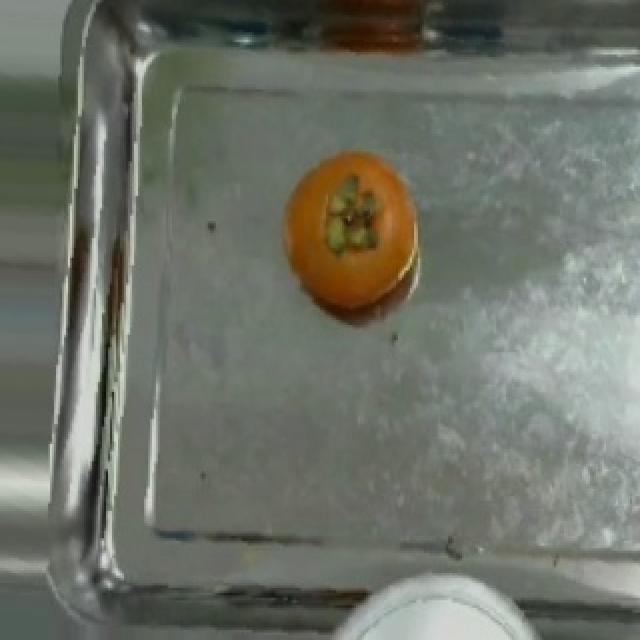Fruit: (270, 139, 432, 320), (340, 588, 556, 640)
